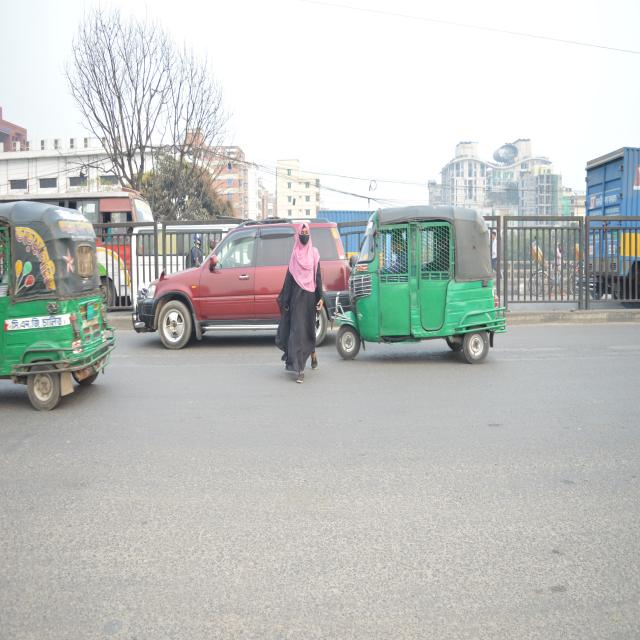bus: (95, 180, 158, 314)
car: (128, 209, 353, 371)
pickup-van: (573, 137, 640, 313)
